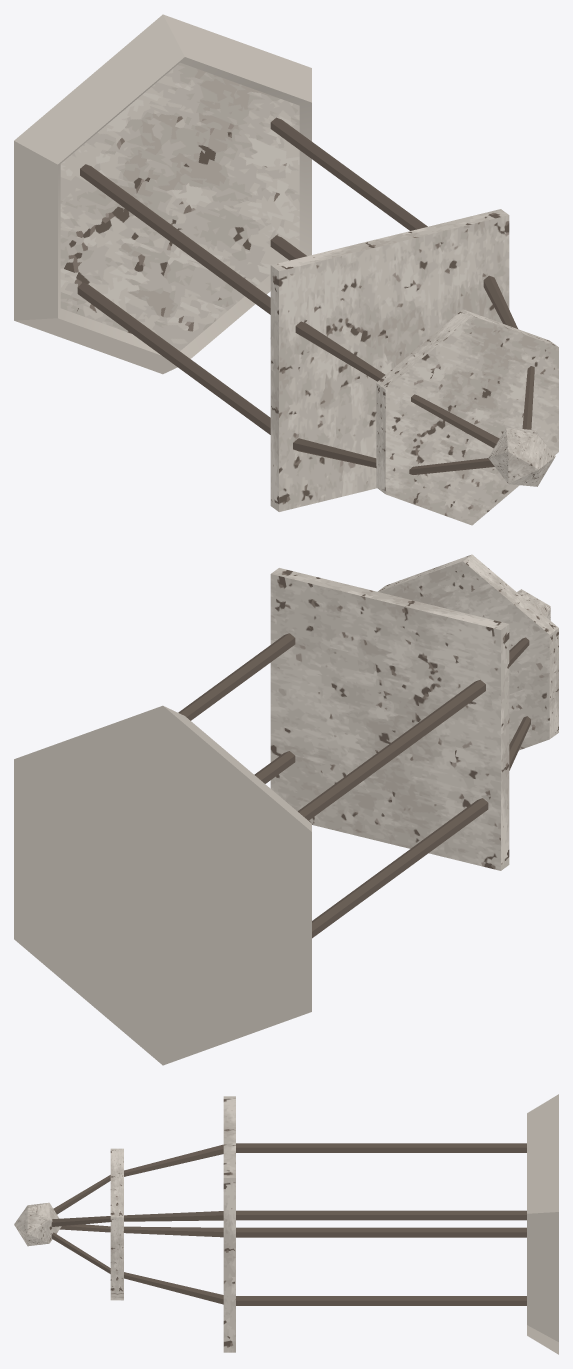
Rendered from torrecita.glb.
The picture shows the model from 3 angles, top to bottom: view 1: azimuth 30°, elevation 25°; view 2: azimuth 150°, elevation 25°; view 3: azimuth 270°, elevation 25°; orthographic projection. The views are drawn at different scales.
Visible parts, largest first — view 1: Antenna_2; view 2: Antenna_2; view 3: Antenna_2.
Boxes of the visible parts, x1=… form: Antenna_2: x1=14, y1=14, x2=558, y2=525; Antenna_2: x1=14, y1=554, x2=558, y2=1065; Antenna_2: x1=14, y1=1094, x2=558, y2=1354.
Size of the model in its own units: 2.33 by 2.69 by 5.09.
Materials: 1 (1 with a texture image).
